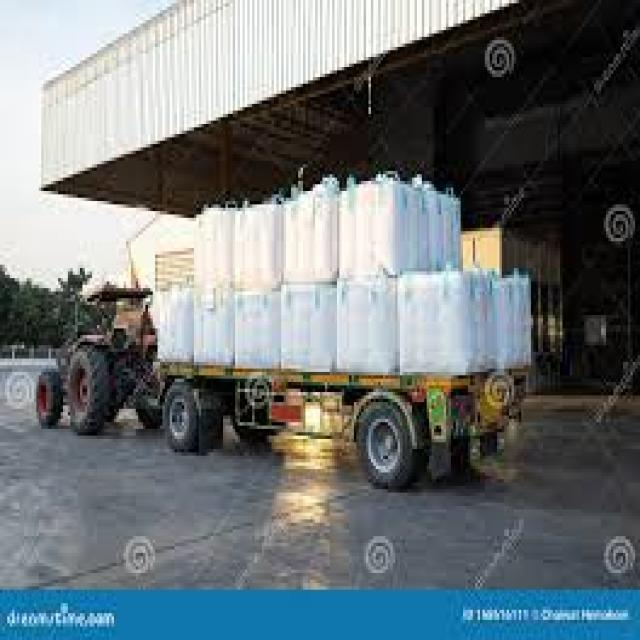uncovered: (36, 178, 526, 492)
